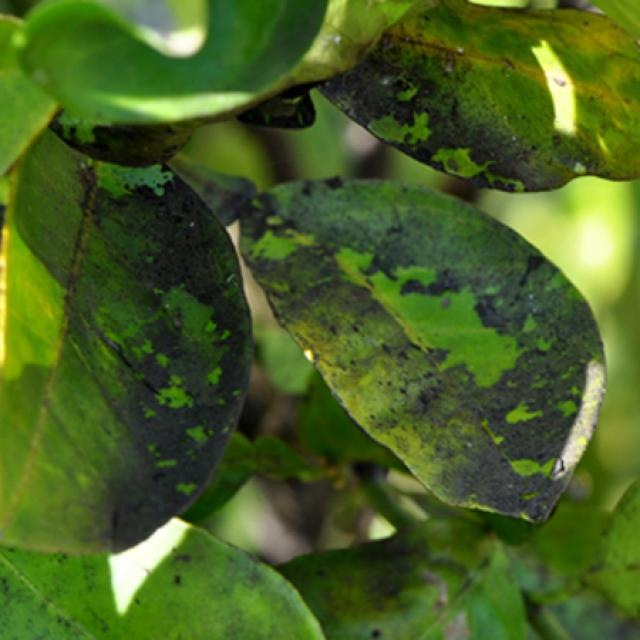Sooty Mold: (0, 122, 255, 556)
